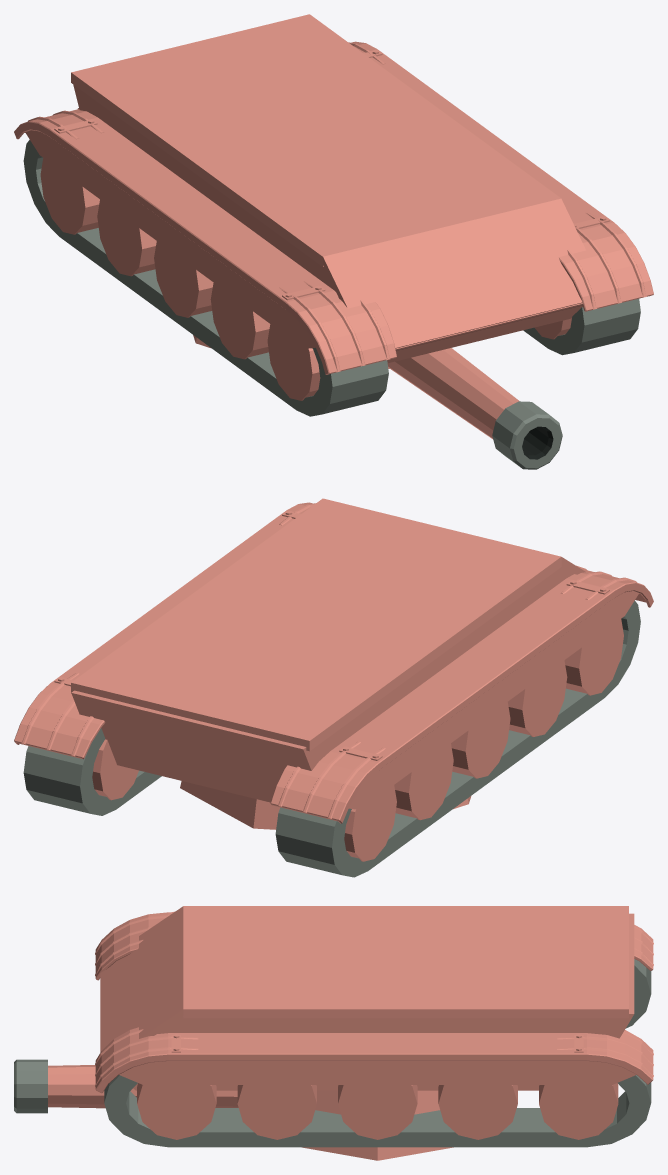
The model's file is cocky-tank-BKqO_CbM.glb.
The picture shows the model from 3 angles, top to bottom: view 1: azimuth 30°, elevation 25°; view 2: azimuth 150°, elevation 25°; view 3: azimuth 270°, elevation 25°; orthographic projection. The views are drawn at different scales.
Visible parts, largest first — view 1: tank-hull_tank-top, tank-hull_tank-paint, tank-hull_tank-track, tank-barrel_tank-paint, tank-hull_tank-pressed-mudguard-detail, tank-barrel_tank-track, wheel_left_2, wheel_left_1, wheel_left_4, wheel_left_3, wheel_left_5, tank-hull_tank-lower-armour (+1 smaller); view 2: tank-hull_tank-top, tank-hull_tank-paint, tank-hull_tank-track, tank-hull_tank-pressed-mudguard-detail, wheel_left_2, wheel_left_3, wheel_left_4, wheel_left_5, wheel_left_1, tank-turret_tank-paint, wheel_right_1; view 3: tank-hull_tank-top, tank-hull_tank-paint, tank-hull_tank-track, wheel_right_1, wheel_right_5, wheel_right_4, wheel_right_2, wheel_right_3, tank-hull_tank-pressed-mudguard-detail, tank-barrel_tank-paint, tank-turret_tank-paint, tank-barrel_tank-track.
Boxes of the visible parts, box(x1,y1,x2,y2) form: tank-hull_tank-top: box(71, 14, 561, 266); tank-hull_tank-paint: box(14, 41, 653, 374); tank-hull_tank-track: box(23, 139, 640, 416); tank-barrel_tank-paint: box(387, 348, 519, 438); tank-hull_tank-pressed-mudguard-detail: box(28, 42, 646, 372); tank-barrel_tank-track: box(492, 401, 562, 469); wheel_left_2: box(97, 199, 156, 276); wheel_left_1: box(40, 158, 99, 234); wheel_left_4: box(210, 283, 270, 359); wheel_left_3: box(154, 241, 213, 317); wheel_left_5: box(267, 324, 320, 400); tank-hull_tank-lower-armour: box(387, 303, 582, 363); tank-hull_tank-top: box(71, 498, 561, 751); tank-hull_tank-paint: box(14, 502, 653, 823); tank-hull_tank-track: box(23, 600, 640, 877); tank-hull_tank-pressed-mudguard-detail: box(21, 503, 636, 818); wheel_left_2: box(394, 743, 453, 820); wheel_left_3: box(451, 702, 510, 778); wheel_left_4: box(508, 660, 567, 736); wheel_left_5: box(564, 619, 623, 695); wheel_left_1: box(344, 785, 396, 861); tank-turret_tank-paint: box(180, 781, 471, 829); wheel_right_1: box(92, 739, 138, 800); tank-hull_tank-top: box(183, 906, 628, 1018); tank-hull_tank-paint: box(95, 906, 653, 1093); tank-hull_tank-track: box(104, 959, 651, 1147); wheel_right_1: box(539, 1083, 618, 1139); wheel_right_5: box(137, 1083, 216, 1139); wheel_right_4: box(237, 1085, 316, 1139); wheel_right_2: box(438, 1085, 517, 1139); wheel_right_3: box(338, 1085, 417, 1139); tank-hull_tank-pressed-mudguard-detail: box(95, 911, 653, 1086); tank-barrel_tank-paint: box(48, 1065, 238, 1108); tank-turret_tank-paint: box(302, 1090, 453, 1160); tank-barrel_tank-track: box(14, 1059, 47, 1113).
Bounding box in the file's own units: 3.97 × 2 × 7.57.
